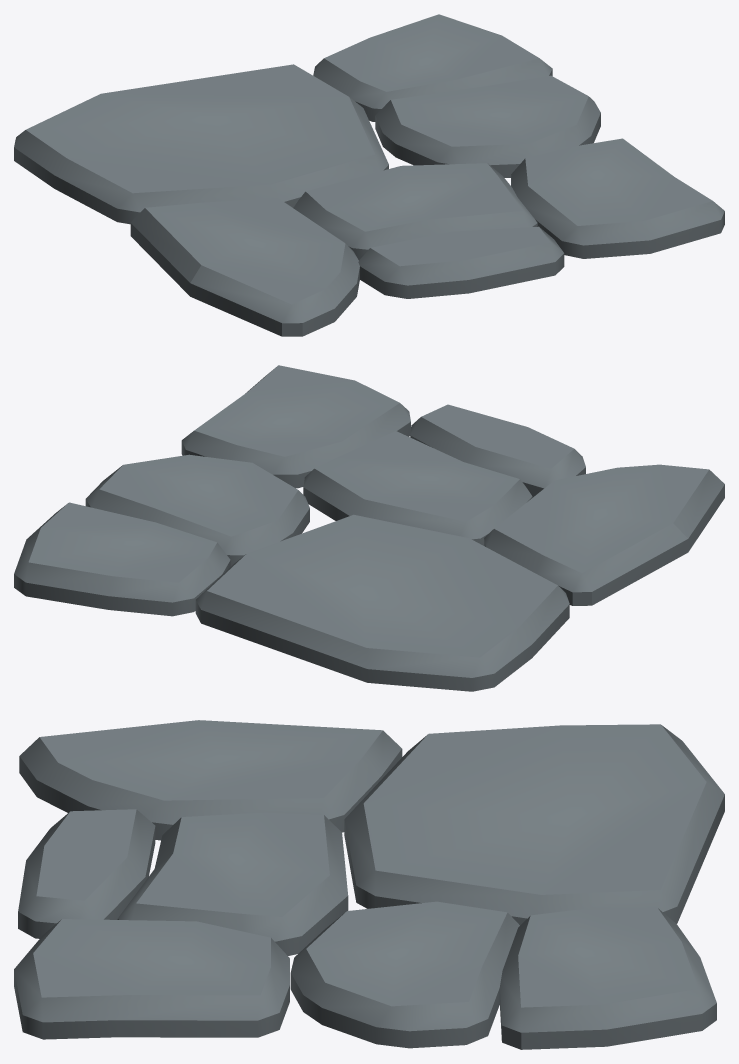
File: Path A.glb
3 renders of one model, top to bottom at view 1: azimuth 30°, elevation 25°; view 2: azimuth 150°, elevation 25°; view 3: azimuth 270°, elevation 25°, orthographic. The views are drawn at different scales.
Visible parts, largest first — view 1: path_A; view 2: path_A; view 3: path_A.
Boxes of the visible parts, box(x1,y1,x2,y2) form: path_A: box(14, 14, 724, 336); path_A: box(14, 365, 724, 691); path_A: box(14, 720, 724, 1049).
Bounding box in the file's own units: 1.9 × 0.1 × 1.88.
Materials: 1 (1 with a texture image).
